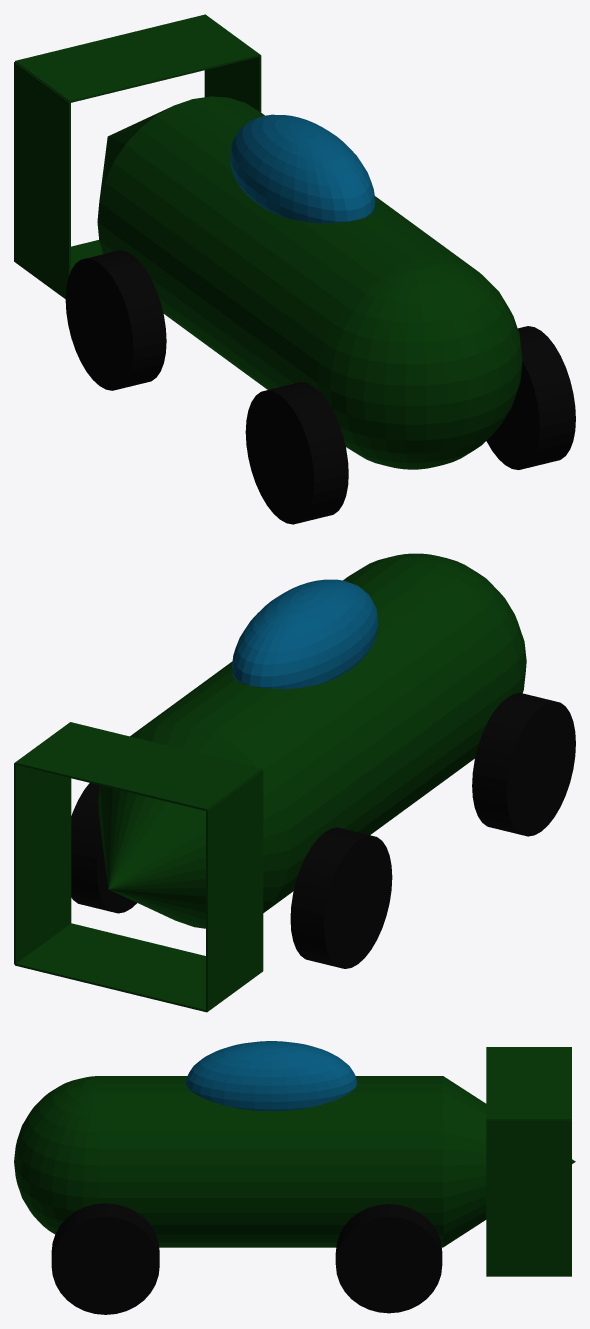
The model's file is auto.fbx.
3 views of the same model, one above another, from view 1: azimuth 30°, elevation 25°; view 2: azimuth 150°, elevation 25°; view 3: azimuth 270°, elevation 25° (orthographic). The views are drawn at different scales.
Visible parts, largest first — view 1: Cilindro, Rueda ai, Rueda ti, Rueda ad; view 2: Cilindro, Rueda ai, Rueda ti, Rueda td; view 3: Cilindro, Rueda ad, Rueda td.
Boxes of the visible parts, x1,y1,x2,y2 form: Cilindro: [14, 14, 522, 469]; Rueda ai: [245, 382, 348, 524]; Rueda ti: [65, 250, 166, 390]; Rueda ad: [486, 326, 575, 469]; Cilindro: [14, 553, 526, 1012]; Rueda ai: [472, 692, 575, 836]; Rueda ti: [290, 827, 392, 968]; Rueda td: [71, 783, 136, 913]; Cilindro: [14, 1041, 575, 1276]; Rueda ad: [51, 1203, 159, 1314]; Rueda td: [335, 1204, 442, 1313].
Size of the model in its own units: 2.74 by 2.82 by 6.55.
